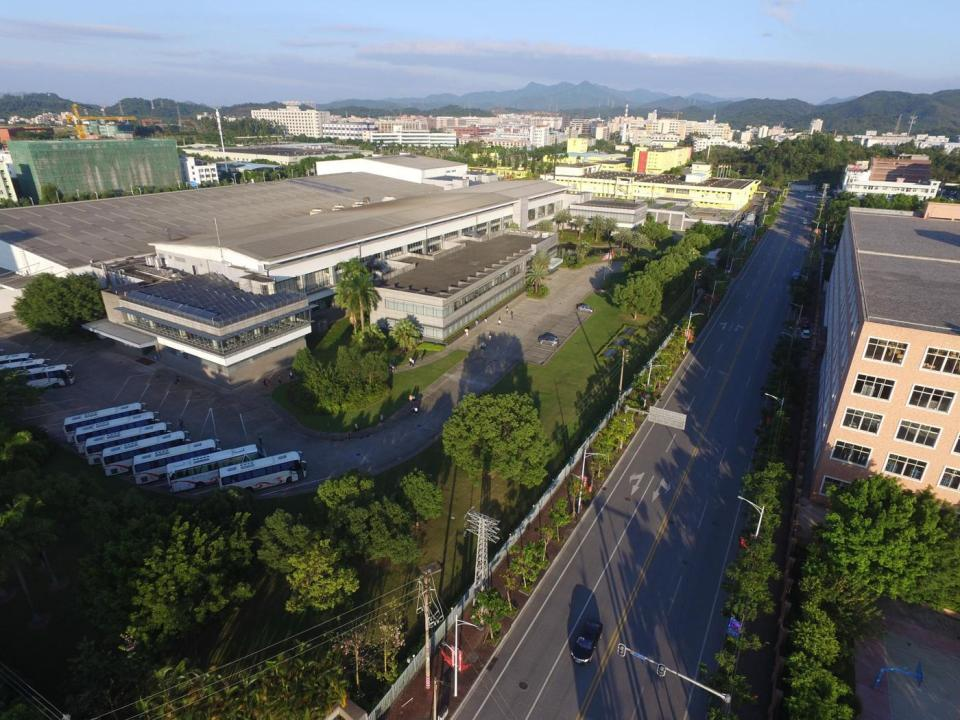bus: (164, 444, 266, 494), (83, 421, 174, 468), (102, 430, 191, 478), (132, 439, 220, 486), (217, 451, 306, 497), (76, 410, 161, 456), (63, 401, 149, 446), (1, 363, 74, 395), (0, 357, 51, 383), (0, 351, 38, 375), (791, 268, 802, 286)
car: (570, 618, 603, 665), (538, 336, 560, 346), (577, 304, 593, 313), (800, 326, 811, 339), (802, 219, 808, 224)
